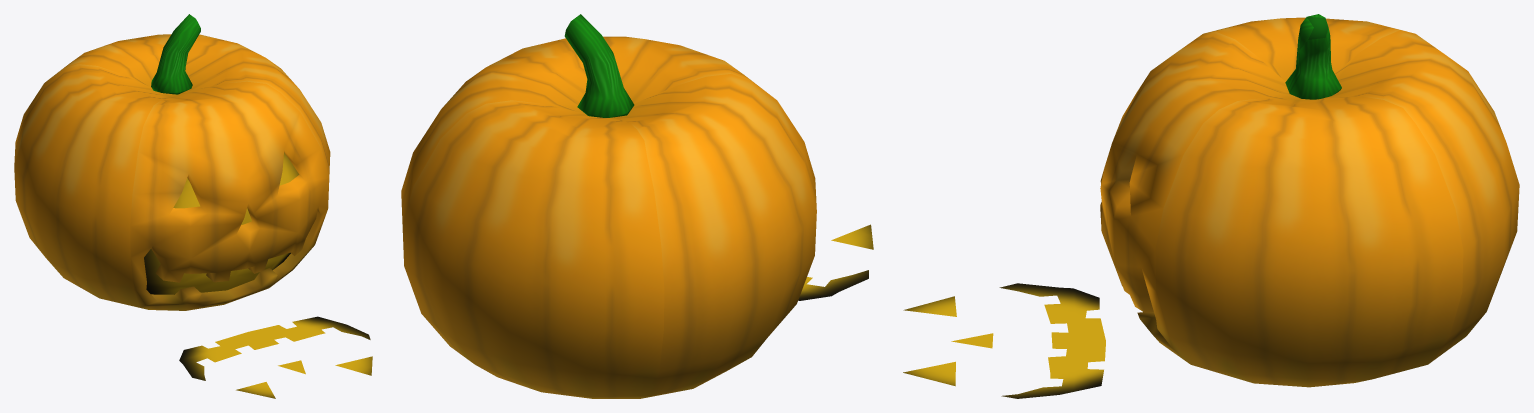
File: jackolantern01-S.fbx
The picture shows the model from 3 angles, left to right: view 1: azimuth 30°, elevation 25°; view 2: azimuth 150°, elevation 25°; view 3: azimuth 270°, elevation 25°; orthographic projection. The views are drawn at different scales.
Parts seen in each view (by area): view 1: Cube, Cube.001; view 2: Cube, Cube.001; view 3: Cube, Cube.001.
Part boxes in pixels (x1,y1,x2,y2): Cube: [14, 14, 330, 310]; Cube.001: [144, 152, 372, 398]; Cube: [401, 14, 816, 398]; Cube.001: [798, 224, 873, 300]; Cube: [1100, 14, 1519, 387]; Cube.001: [903, 283, 1105, 398].
Bounding box in the file's own units: 0.792 × 0.7203 × 1.16.
